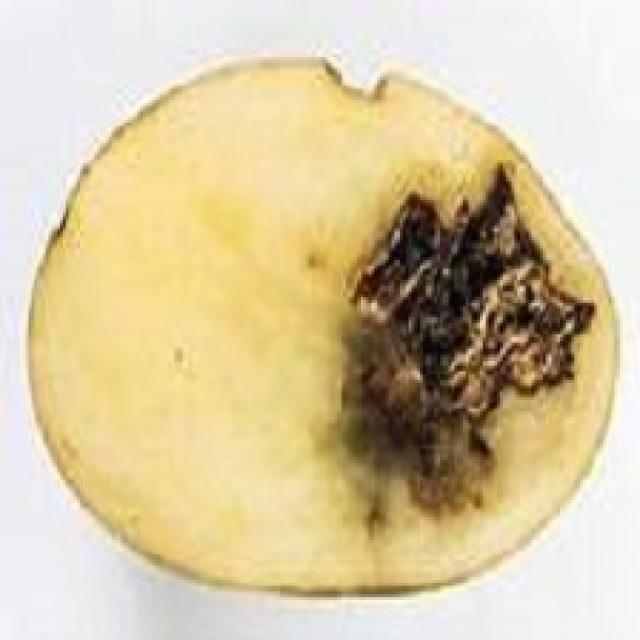blackleg: (14, 48, 631, 608)
